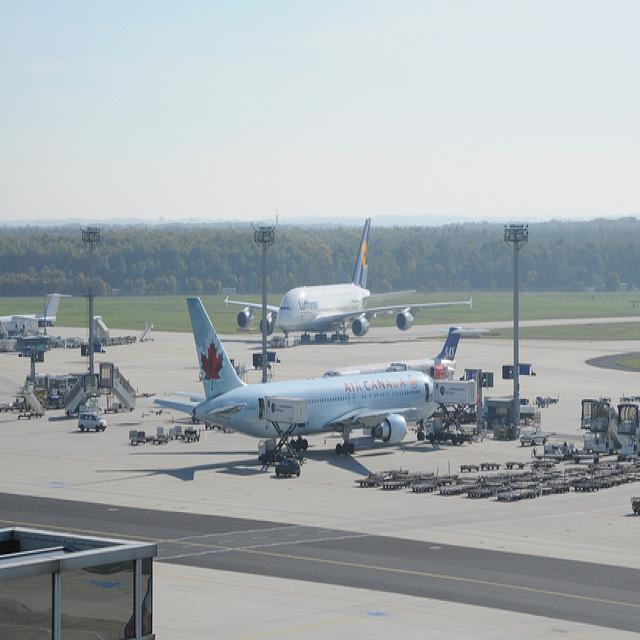Vehicle: (520, 426, 556, 446), (77, 413, 107, 432), (275, 458, 301, 477)
